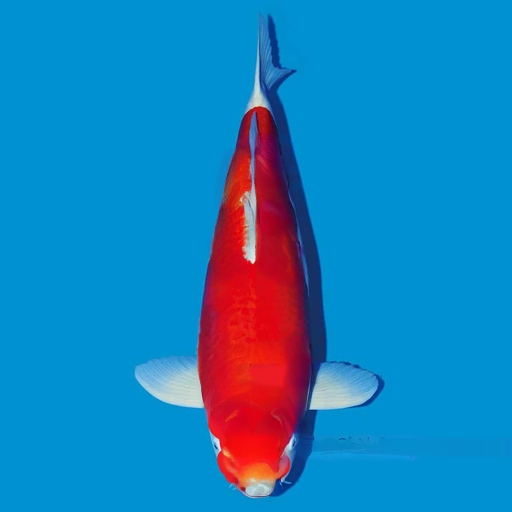red: (135, 13, 383, 498)
